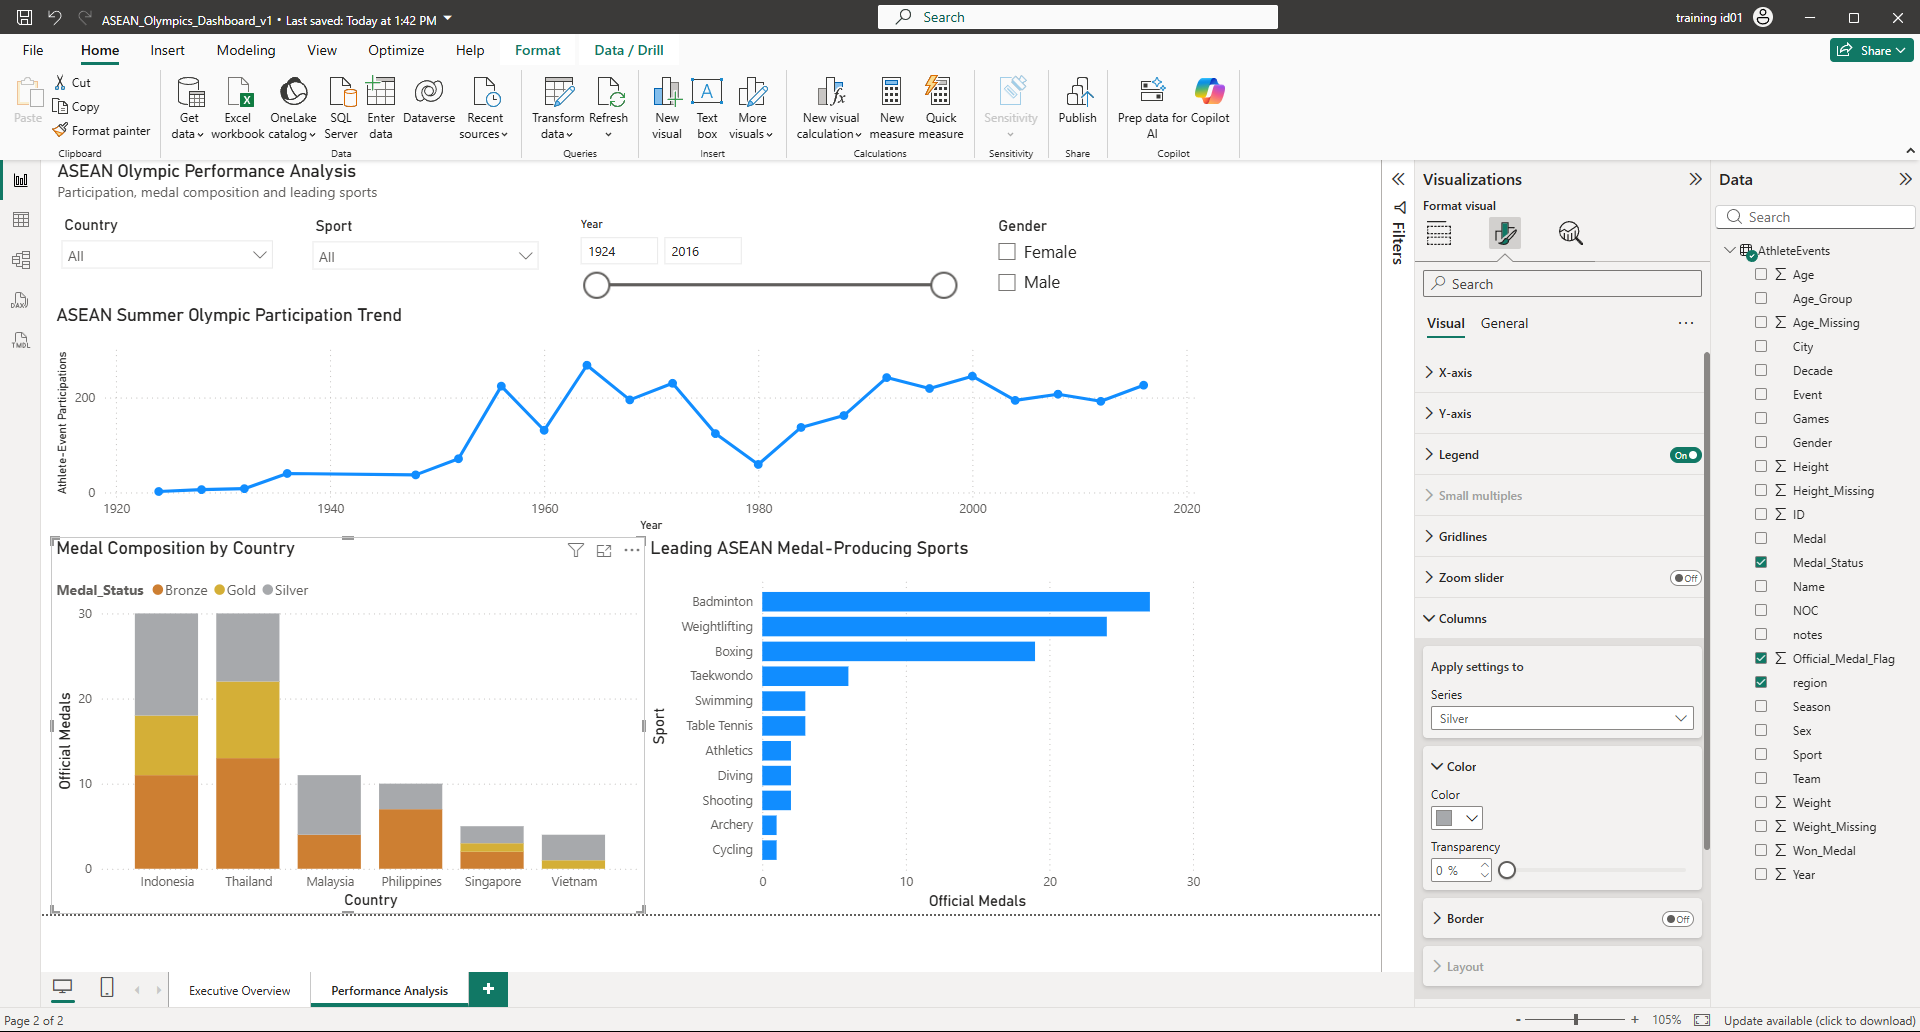

What the dashboard file says about the page in this screenshot:
{"tool":"powerbi","page":{"name":"Performance Analysis","canvas":[1280,720],"ordinal":1},"visuals":[{"type":"textbox","title":"ASEAN Olympic Performance Analysis","box":[10.1,0,890.6,49.2],"z":0},{"type":"lineChart","title":"ASEAN Summer Olympic Participation Trend","fields":{"Category":["AthleteEvents.Year"],"Y":["CountNonNull(AthleteEvents.ID)"]},"box":[9.9,138,1102.6,222.3],"z":1},{"type":"columnChart","title":"Medal Composition by Country","fields":{"Category":["AthleteEvents.region"],"Series":["AthleteEvents.Medal_Status"],"Y":["Sum(AthleteEvents.Official_Medal_Flag)"]},"box":[9.9,360.2,567.2,360.2],"z":2},{"type":"clusteredBarChart","title":"Leading ASEAN Medal-Producing Sports","fields":{"Category":["AthleteEvents.Sport"],"Y":["Sum(AthleteEvents.Official_Medal_Flag)"]},"box":[577,360.2,535.4,360.2],"z":3},{"type":"slicer","fields":{"Values":["AthleteEvents.region"]},"box":[9.8,49,222.2,88.6],"z":4},{"type":"slicer","fields":{"Values":["AthleteEvents.Sport"]},"box":[249,49.2,236.3,88.6],"z":5},{"type":"slicer","fields":{"Values":["AthleteEvents.Year"]},"box":[502.2,49.2,381.2,88.6],"z":6},{"type":"slicer","fields":{"Values":["AthleteEvents.Gender"]},"box":[901.6,49.2,211,88.6],"z":7}]}

Visuals, with their boxes on the page's 1280x720 design canvas (x1, y1, x2, y2). These are canvas units, not pixel positions in the 1920x1032 screenshot, which may show the page scaled, cropped or inside an application window:
"ASEAN Olympic Performance Analysis" textbox: bbox(10, 0, 901, 49)
"ASEAN Summer Olympic Participation Trend" lineChart: bbox(10, 138, 1112, 360)
"Medal Composition by Country" columnChart: bbox(10, 360, 577, 720)
"Leading ASEAN Medal-Producing Sports" clusteredBarChart: bbox(577, 360, 1112, 720)
slicer - AthleteEvents.region: bbox(10, 49, 232, 138)
slicer - AthleteEvents.Sport: bbox(249, 49, 485, 138)
slicer - AthleteEvents.Year: bbox(502, 49, 883, 138)
slicer - AthleteEvents.Gender: bbox(902, 49, 1113, 138)
